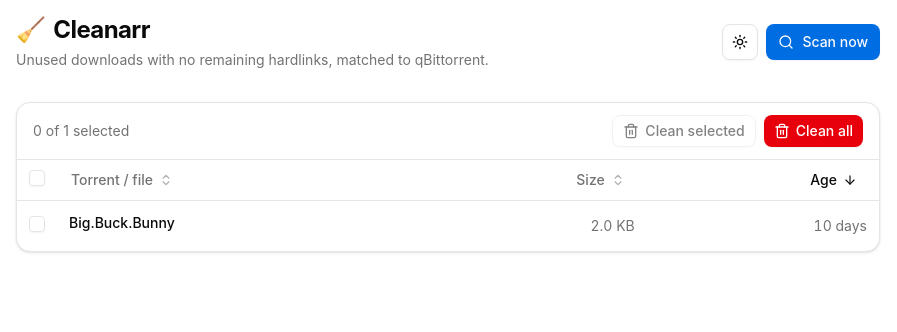
Test case: App › cleans and reports the summary
The image size is (897, 332).
Check: the text "Big.Buck.Bunny" is shown, box [69,214,175,230]
Click the button "Clean all": (813, 131) [764,115,863,147]
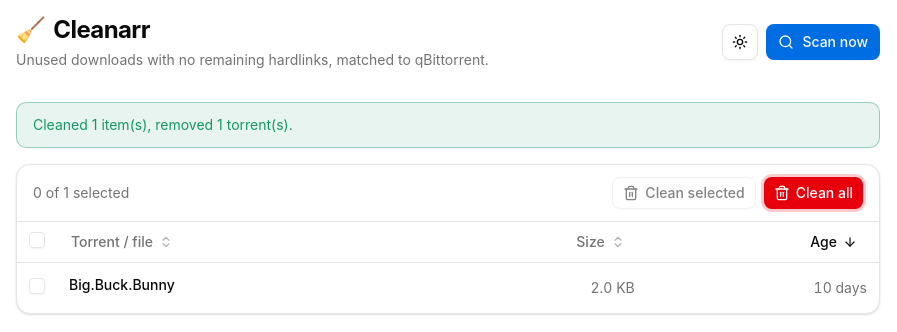
Check: the text "Cleaned 1 item(s), removed 1 torrent(s)." is shown, box [16,102,880,148]
